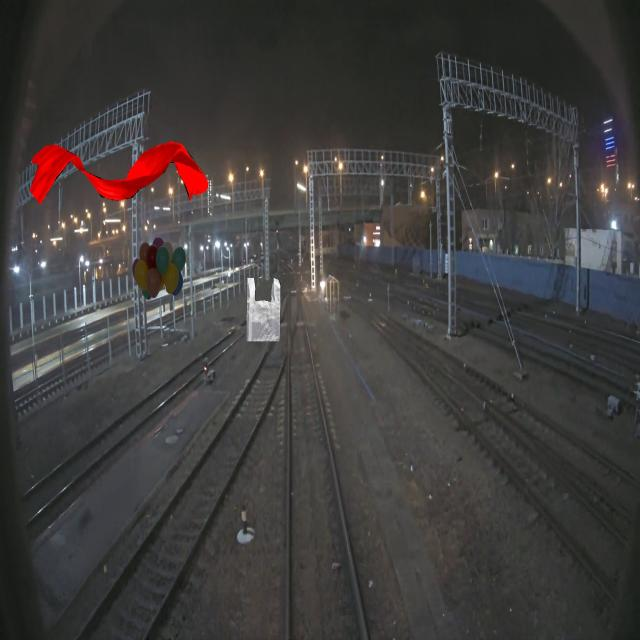balloon: (132, 236, 186, 300)
floating object: (29, 141, 209, 205)
plastic bag: (246, 278, 281, 342)
